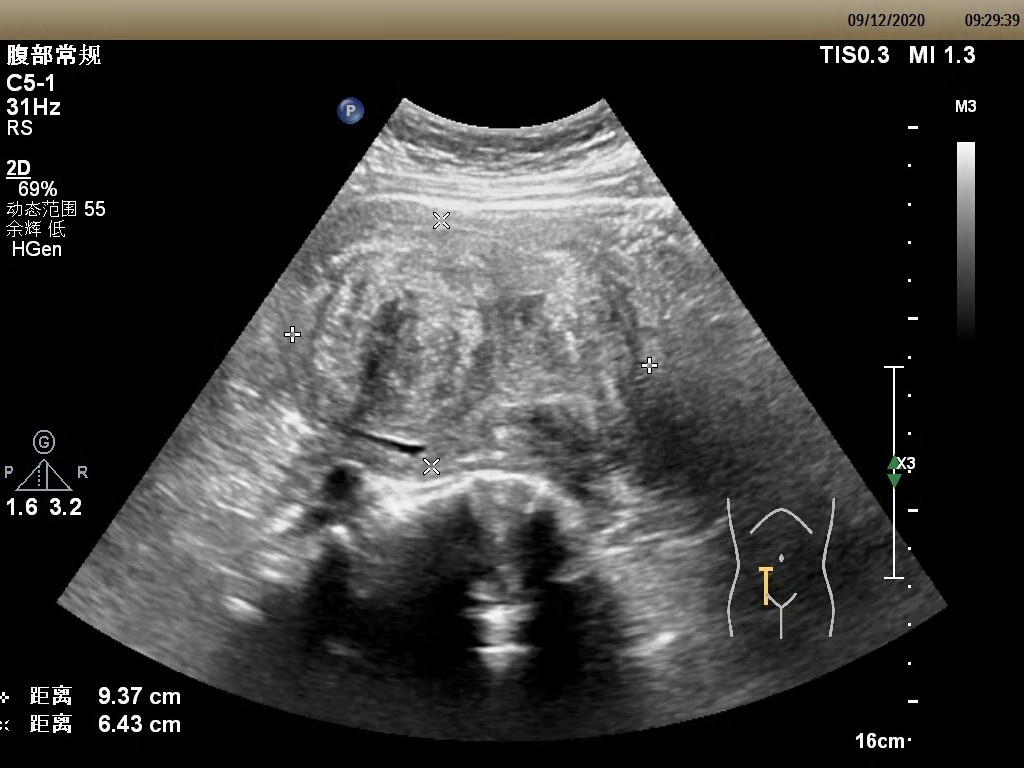肌瘤: (331, 229, 630, 455)
